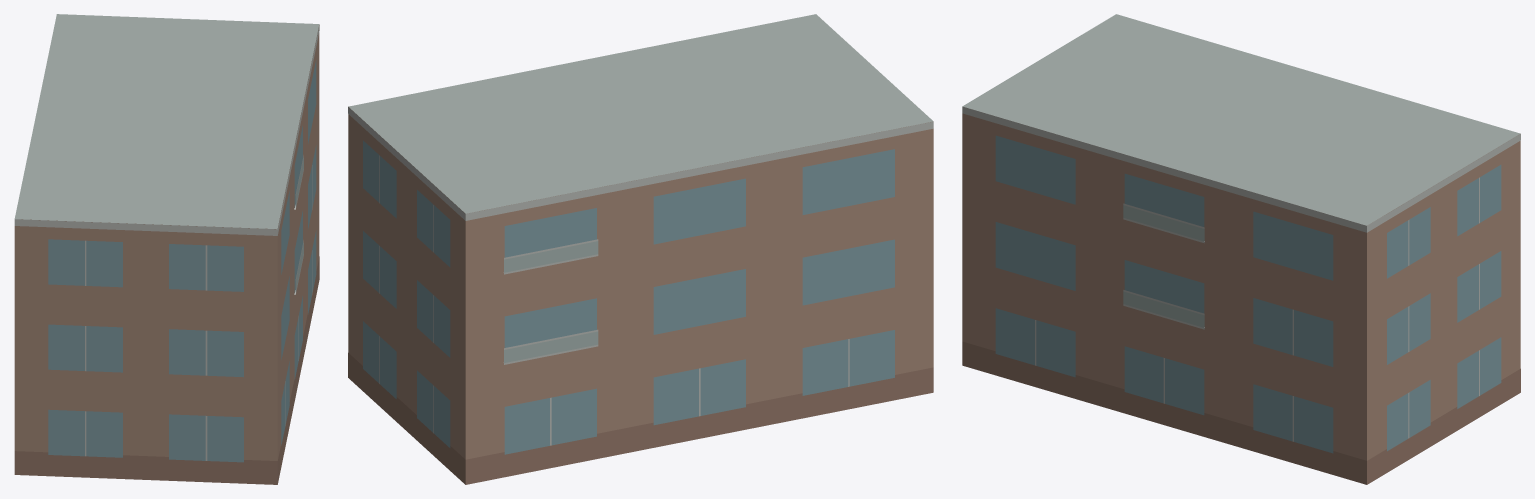
The model's file is survey-upis-32912445.glb.
3 views of the same model, side by side, from view 1: azimuth 30°, elevation 25°; view 2: azimuth 150°, elevation 25°; view 3: azimuth 270°, elevation 25° (orthographic). The views are drawn at different scales.
Parts seen in each view (by area): view 1: survey-upis-32912445.tmp; view 2: survey-upis-32912445.tmp; view 3: survey-upis-32912445.tmp.
Boxes of the visible parts, x1,y1,x2,y2 form: survey-upis-32912445.tmp: [14, 14, 319, 484]; survey-upis-32912445.tmp: [348, 14, 933, 484]; survey-upis-32912445.tmp: [962, 14, 1520, 484].
Size of the model in its own units: 16.06 by 9.15 by 17.89.
